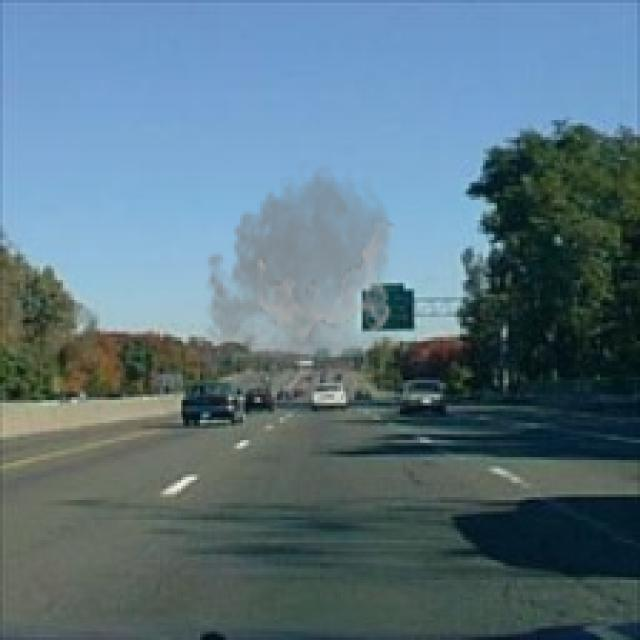Smoke: (194, 154, 397, 409)
